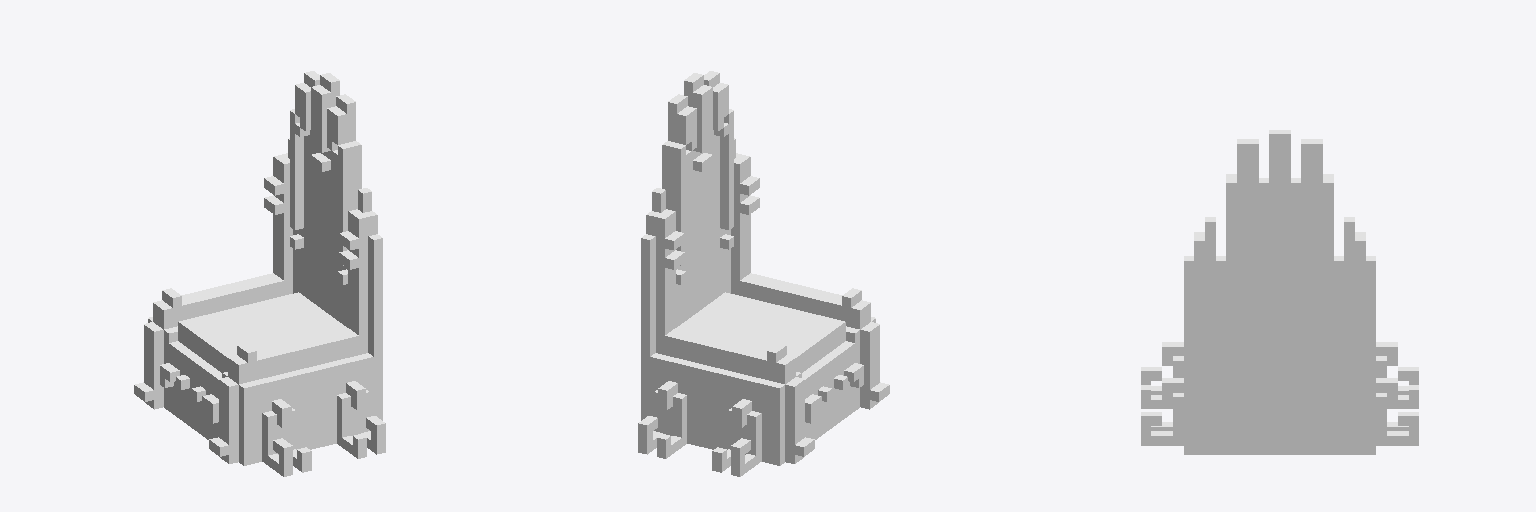
The model's file is vox-17-King_Throne.obj.
3 views of the same model, side by side, from view 1: azimuth 30°, elevation 25°; view 2: azimuth 150°, elevation 25°; view 3: azimuth 270°, elevation 25° (orthographic).
Parts seen in each view (by area): view 1: King_Throne; view 2: King_Throne; view 3: King_Throne.
Boxes of the visible parts, x1,y1,x2,y2 form: King_Throne: [134, 71, 385, 476]; King_Throne: [638, 71, 889, 476]; King_Throne: [1141, 130, 1418, 454].
Bounding box in the file's own units: 1.7 × 3.3 × 2.6.